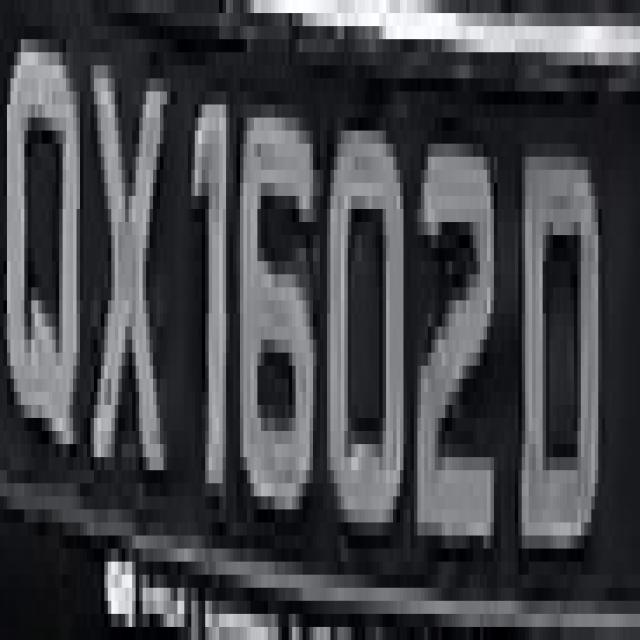0: (320, 117, 407, 548)
1: (188, 52, 236, 575)
2: (410, 118, 508, 574)
6: (236, 65, 316, 562)
D: (514, 117, 608, 548)
Q: (7, 26, 90, 496)
X: (87, 52, 177, 522)
